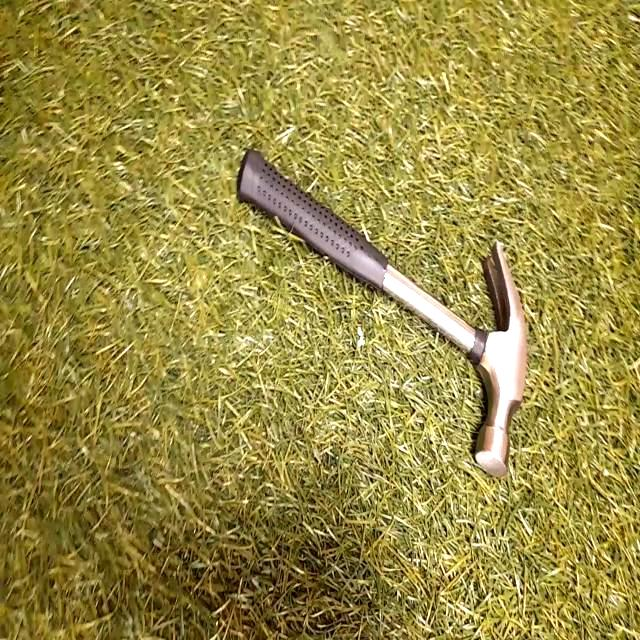hammer: (232, 140, 530, 478)
